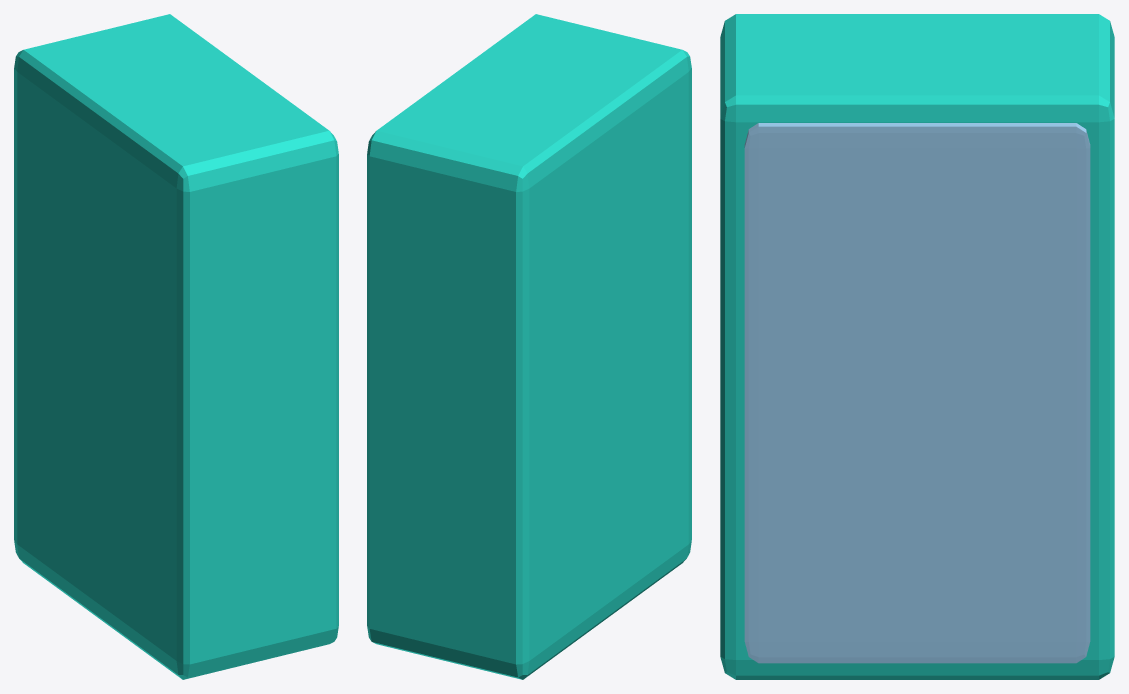
The model's file is custom_fridge.fbx.
3 views of the same model, side by side, from view 1: azimuth 30°, elevation 25°; view 2: azimuth 150°, elevation 25°; view 3: azimuth 270°, elevation 25° (orthographic). The views are drawn at different scales.
Visible parts, largest first — view 1: fridge; view 2: fridge; view 3: door, fridge.
Boxes of the visible parts, box(x1,y1,x2,y2) form: fridge: box(14, 14, 338, 679); fridge: box(367, 14, 691, 679); door: box(744, 123, 1090, 663); fridge: box(720, 14, 1114, 679).
Size of the model in its own units: 67.84 by 200 by 122.
